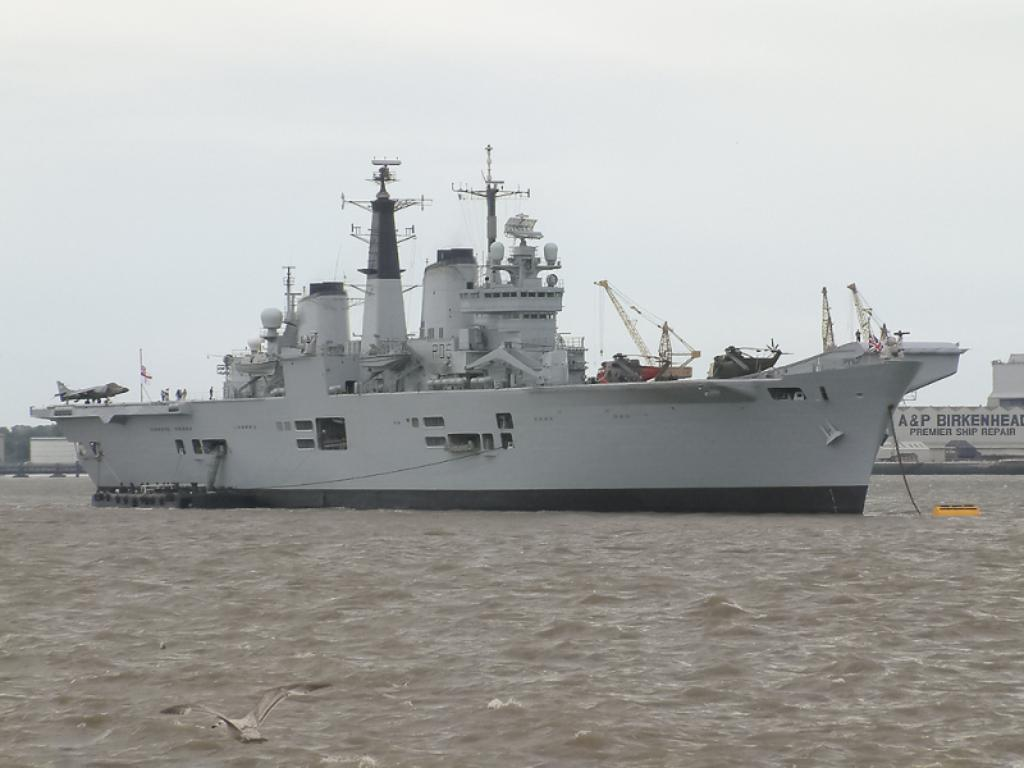Warship: (25, 135, 969, 525)
